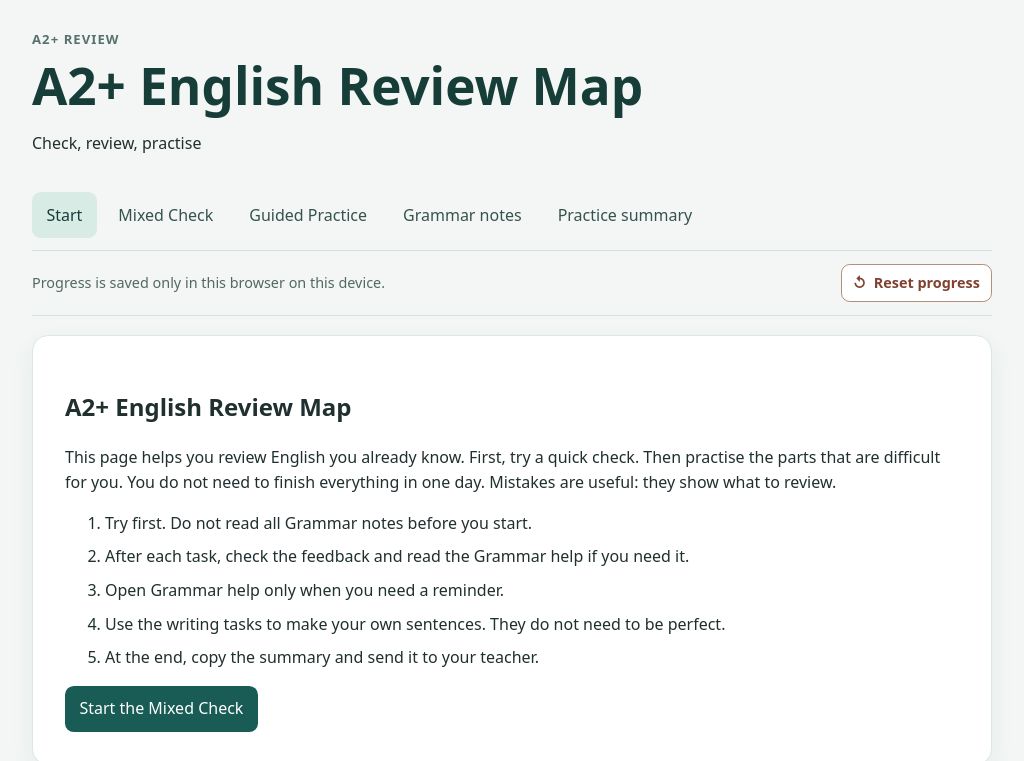
keeps linked theory in the task and groups choice options semantically
Click the button "Mixed Check" at (166, 215), box [104,192,228,238]
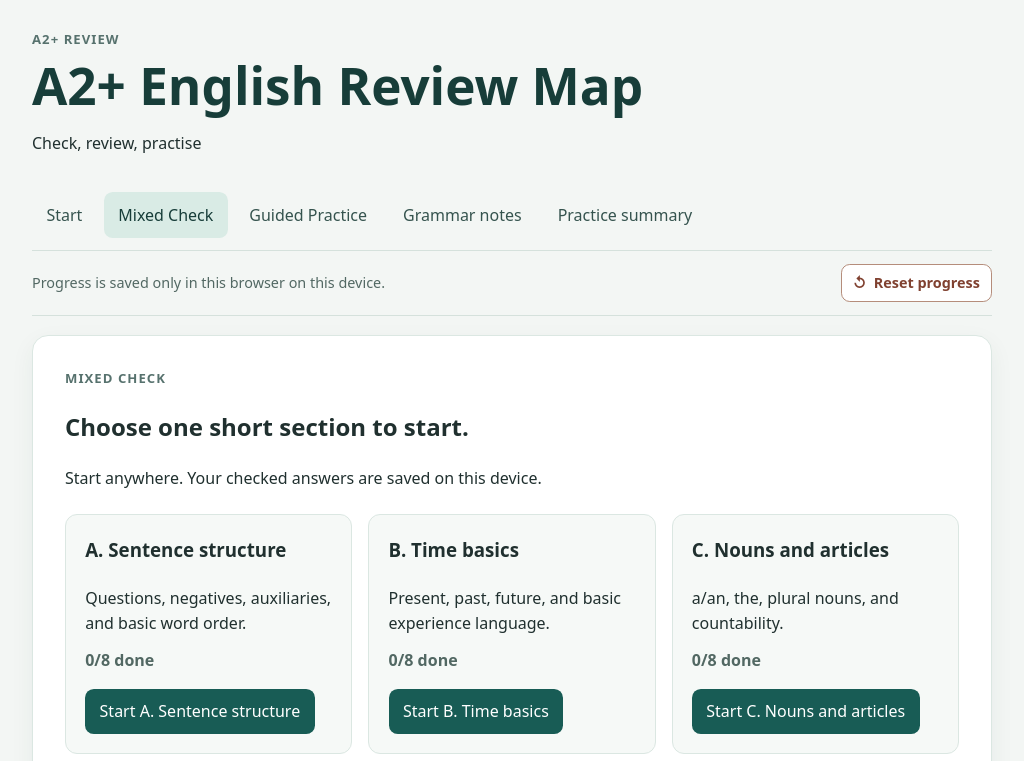
Click the button "Start A. Sentence structure" at (200, 711), box [85,689,315,734]
(page scrolled)
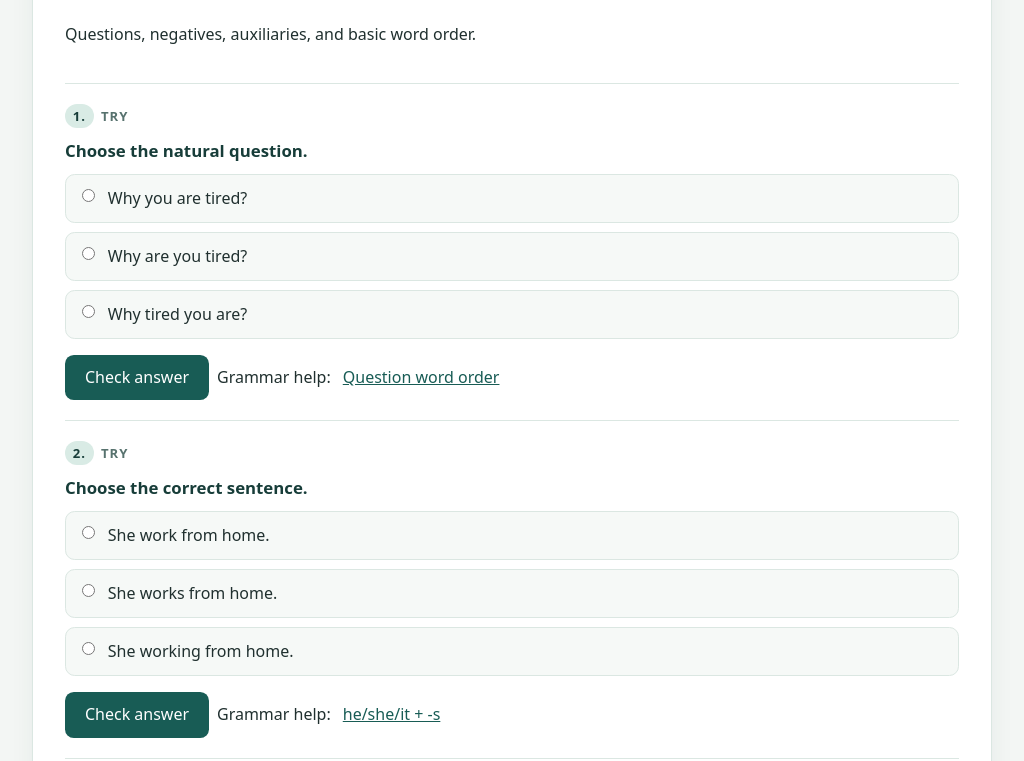
Check: the text "Choose the natural question." is shown, box [65,141,308,161]
Check: the element with class "task-actions" shows "Check answer", box [65,355,209,400]
Check: the element with class "task-actions" shows "Grammar help:", box [217,366,331,388]
Click the button "Question word order" at (421, 378), box [339,361,504,394]
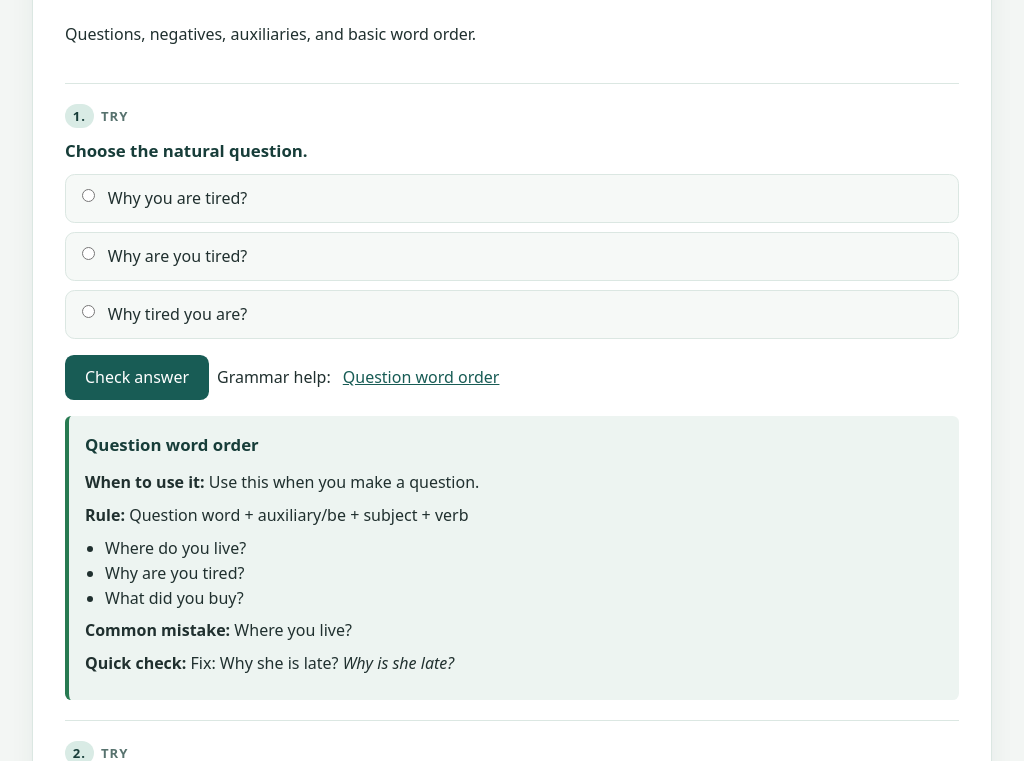
Check: the text "Grammar help:" is shown, box [217,365,331,390]
Check: the text "When to use it: Use this when you make a question." is shown, box [85,471,479,493]
Check: the text "Rule:" is shown, box [85,504,125,526]
